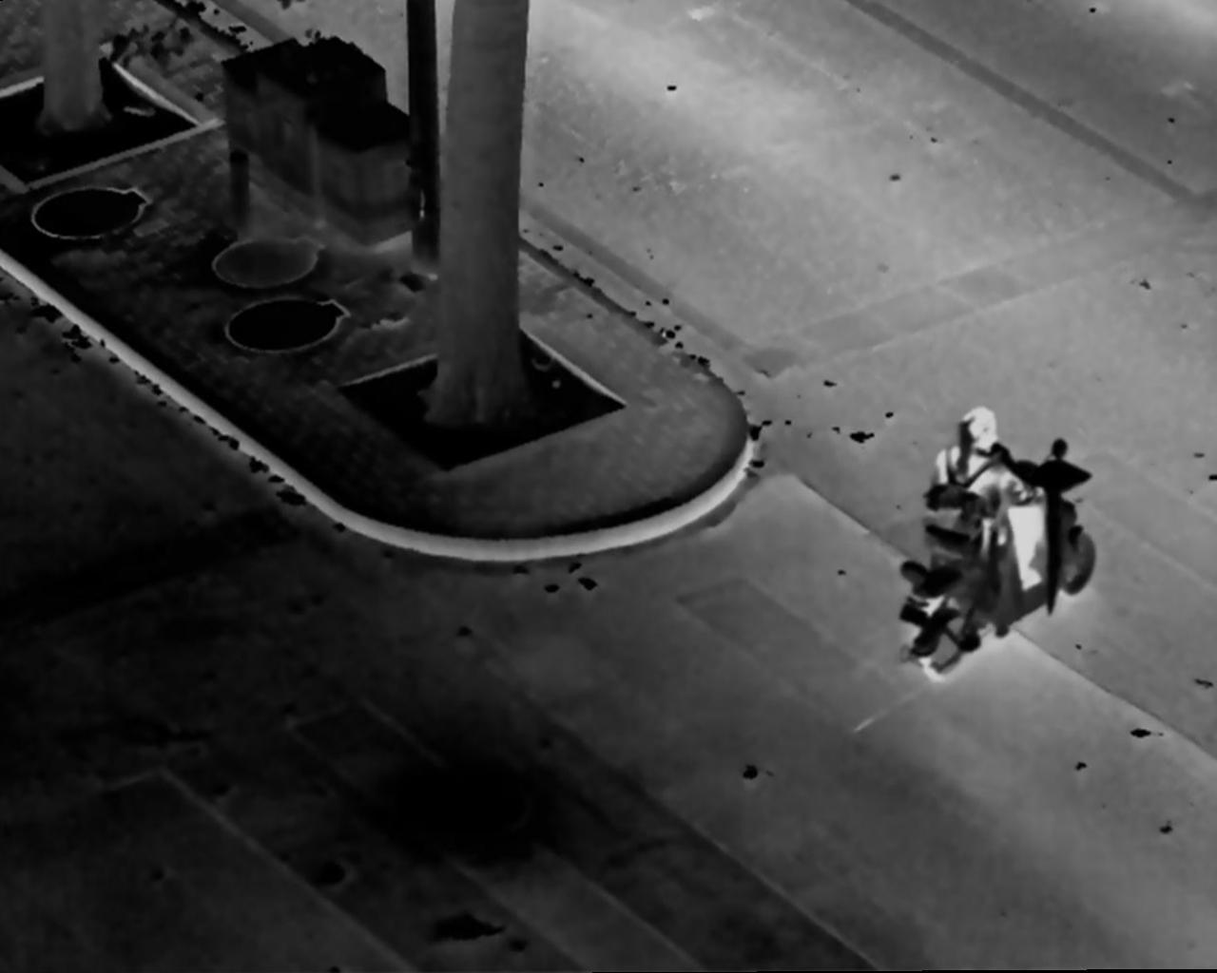person: (919, 393, 1053, 618)
